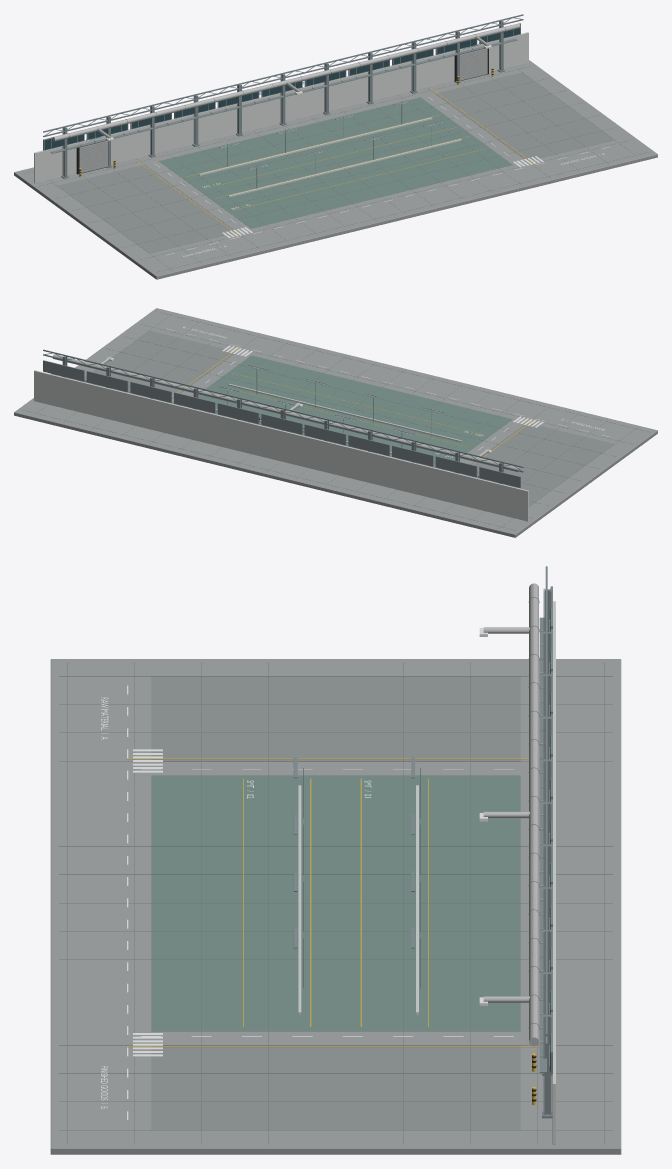
File: kit-hall-2.glb
3 renders of one model, top to bottom at view 1: azimuth 30°, elevation 25°; view 2: azimuth 150°, elevation 25°; view 3: azimuth 270°, elevation 25°, orthographic. The views are drawn at different scales.
Visible parts, largest first — view 1: Foundation; view 2: Foundation; view 3: Foundation.
Boxes of the visible parts, x1,y1,x2,y2 form: Foundation: (14,14,657,279); Foundation: (14,308,657,537); Foundation: (50,566,621,1154).
Size of the model in its own units: 69 by 7.23 by 34.
Materials: 2 (2 with a texture image).
